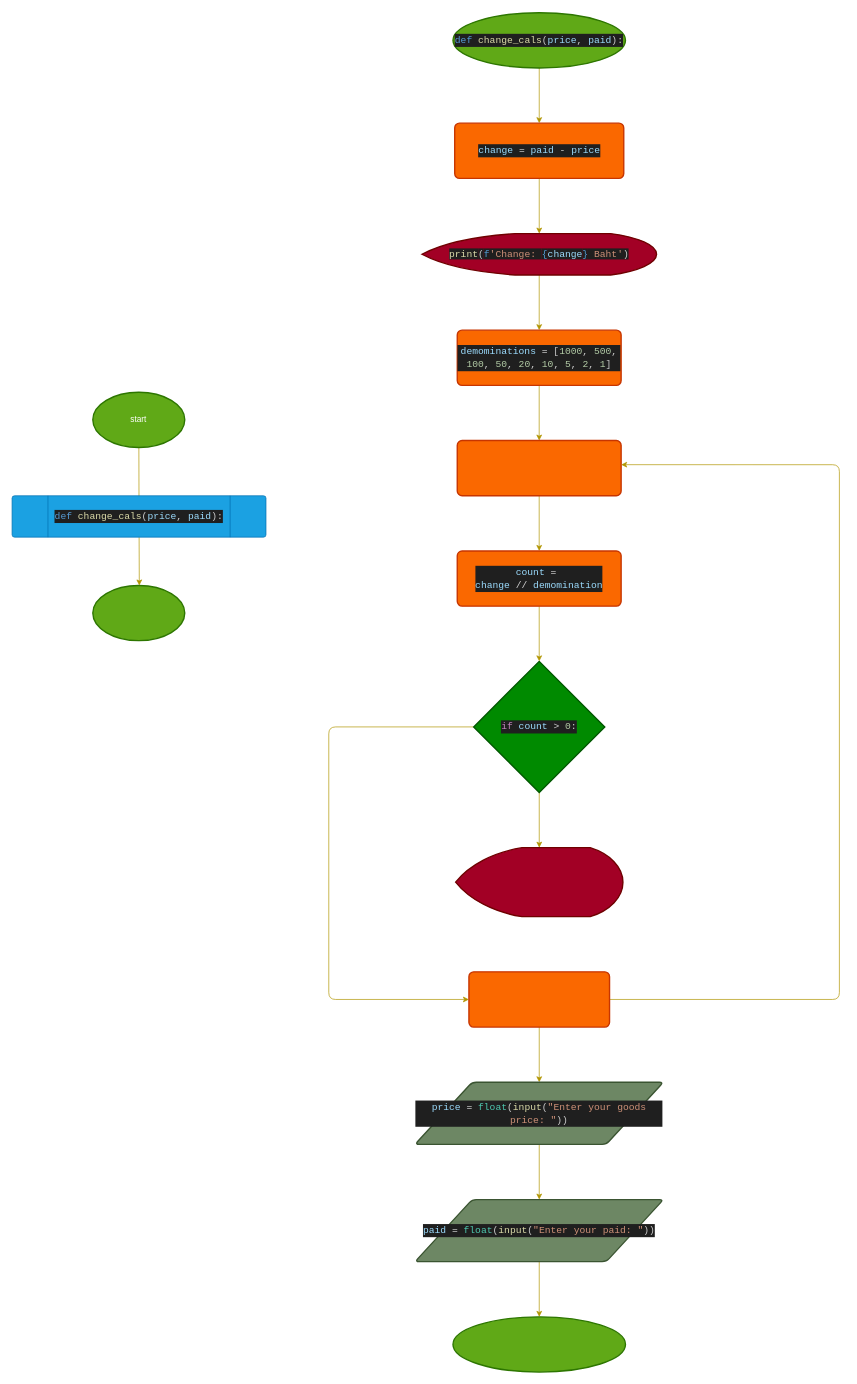
Some shapes in this 857 by 1384 pixel diagram are drawn without their labels. The centre of each missing label's shape, as x and y in pixels:
"change %= demomination" belongs at (x=539, y=999).
"change_cals ( price , paid )" belongs at (x=539, y=1344).
"end" belongs at (x=138, y=612).
"for demomination in demominations :" belongs at (x=538, y=468).
"print ( f ' { demomination } Baht: { count } piece' )" belongs at (x=539, y=882).
